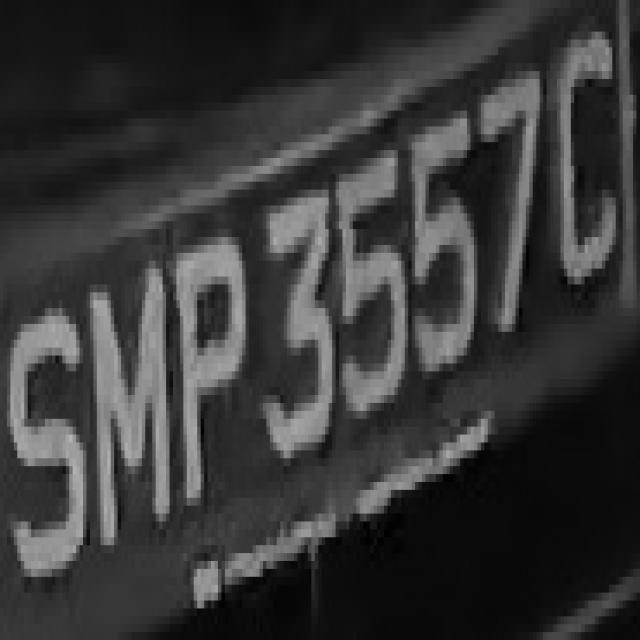3: (252, 158, 336, 466)
5: (325, 142, 408, 450), (405, 95, 484, 387)
7: (464, 55, 540, 340)
C: (550, 24, 626, 316)
M: (76, 245, 173, 545)
P: (170, 205, 256, 538)
S: (0, 276, 83, 576)
